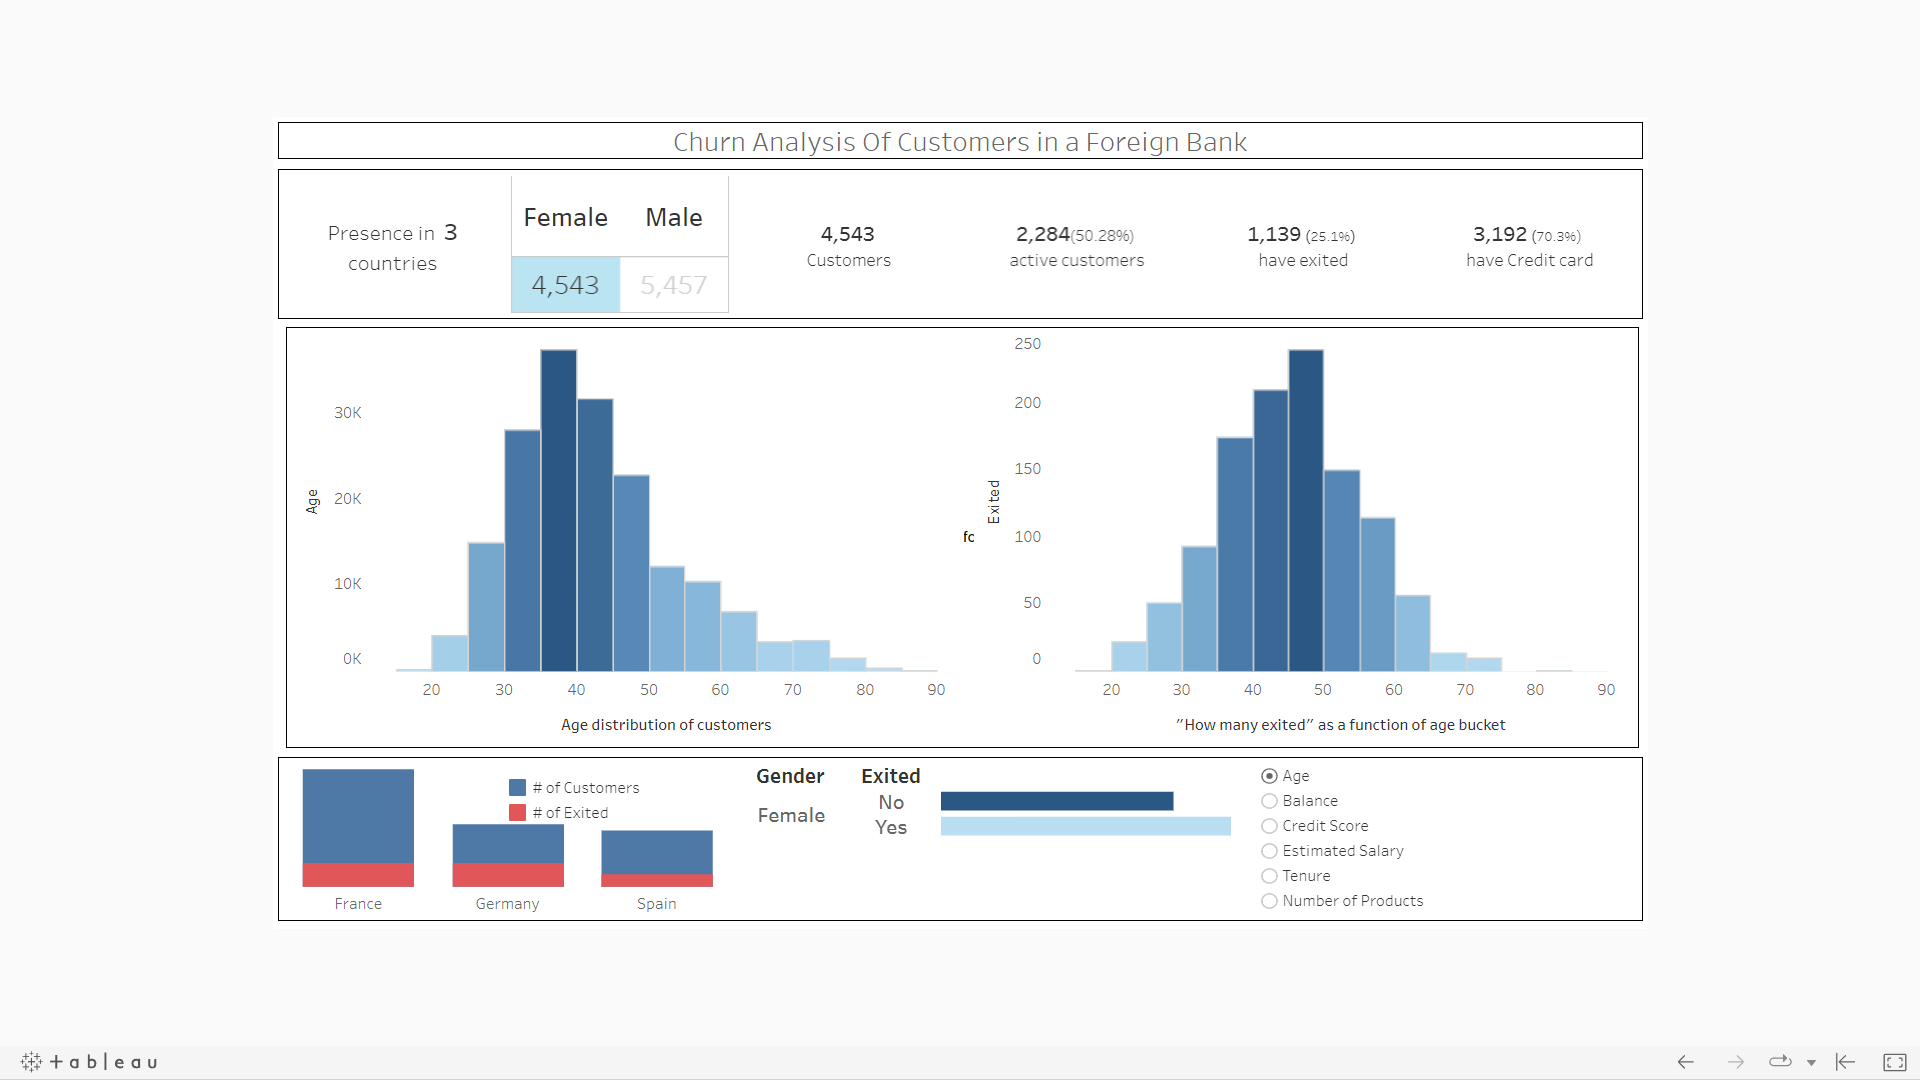

The page's visual inventory and layout, read from the dashboard file:
{"tool":"tableau","page":{"name":"Dashboard 1","canvas":[1100,650],"ordinal":0},"visuals":[{"type":"text","box":[0,0,1100,38]},{"type":"worksheet","title":"# of countries","mark":"Automatic","box":[5,43,182,118]},{"type":"worksheet","title":"Gender","mark":"Automatic","cols":["Gender"],"box":[187,43,182,118]},{"type":"worksheet","title":"Customers","mark":"Automatic","box":[369,43,182,118]},{"type":"worksheet","title":"Active customers","mark":"Automatic","box":[551,43,182,118]},{"type":"worksheet","title":"exited  customers ","mark":"Automatic","box":[733,43,181,118]},{"type":"worksheet","title":"Credit card","mark":"Automatic","box":[914,43,181,118]},{"type":"worksheet","title":"Age wise","mark":"Automatic","rows":["Age"],"cols":["Age (bin)"],"box":[12,169,545,335]},{"type":"worksheet","title":"Exited vs age","mark":"Automatic","rows":["Exited"],"cols":["Age (bin)"],"box":[557,169,535,335]},{"type":"worksheet","box":[0,325,1100,325]},{"type":"worksheet","title":"Exited country wise","mark":"Bar","rows":["ChurnAnalysisData_51BE9C0CF510447EA886F9E47D882F68","Exited"],"cols":["Geography"],"box":[5,513,366,129]},{"type":"worksheet","title":"Gender wise exited","mark":"Automatic","rows":["Gender","Exited"],"cols":["Calculation_878201944899014657"],"box":[371,513,412,129]},{"type":"parameter","param":"[Parameters].[Parameter 1]","box":[783,513,312,129]},{"type":"legend","title":"Exited country wise","param":"[federated.0fxd9ov0lvobej0zmb3kq00man53].[:Measure Names]","box":[186,527,193,58]}]}

Visuals, with their boxes on the page's 1100x650 design canvas (x1, y1, x2, y2). These are canvas units, not pixel positions in the 1920x1080 screenshot, which may show the page scaled, cropped or inside an application window:
text: 0/0/1100/38
"# of countries" worksheet: 5/43/187/161
"Gender" worksheet: 187/43/369/161
"Customers" worksheet: 369/43/551/161
"Active customers" worksheet: 551/43/733/161
"exited  customers " worksheet: 733/43/914/161
"Credit card" worksheet: 914/43/1095/161
"Age wise" worksheet: 12/169/557/504
"Exited vs age" worksheet: 557/169/1092/504
worksheet: 0/325/1100/650
"Exited country wise" worksheet (Bar marks): 5/513/371/642
"Gender wise exited" worksheet: 371/513/783/642
parameter: 783/513/1095/642
"Exited country wise" legend: 186/527/379/585
